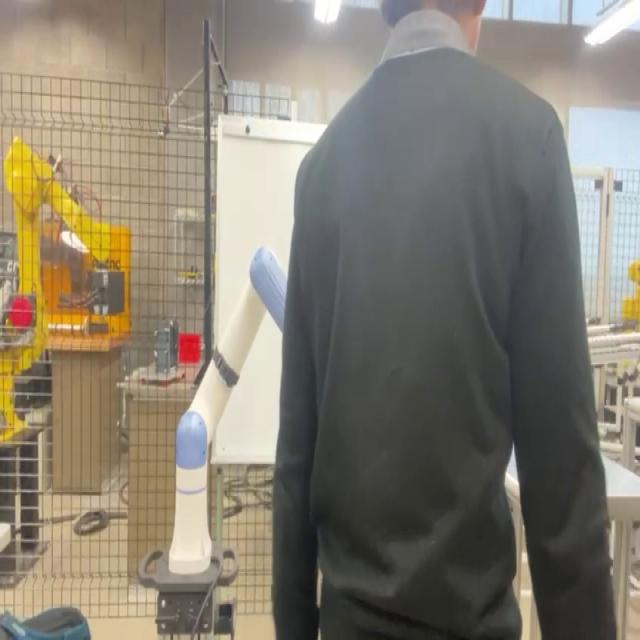human: (270, 0, 616, 637)
